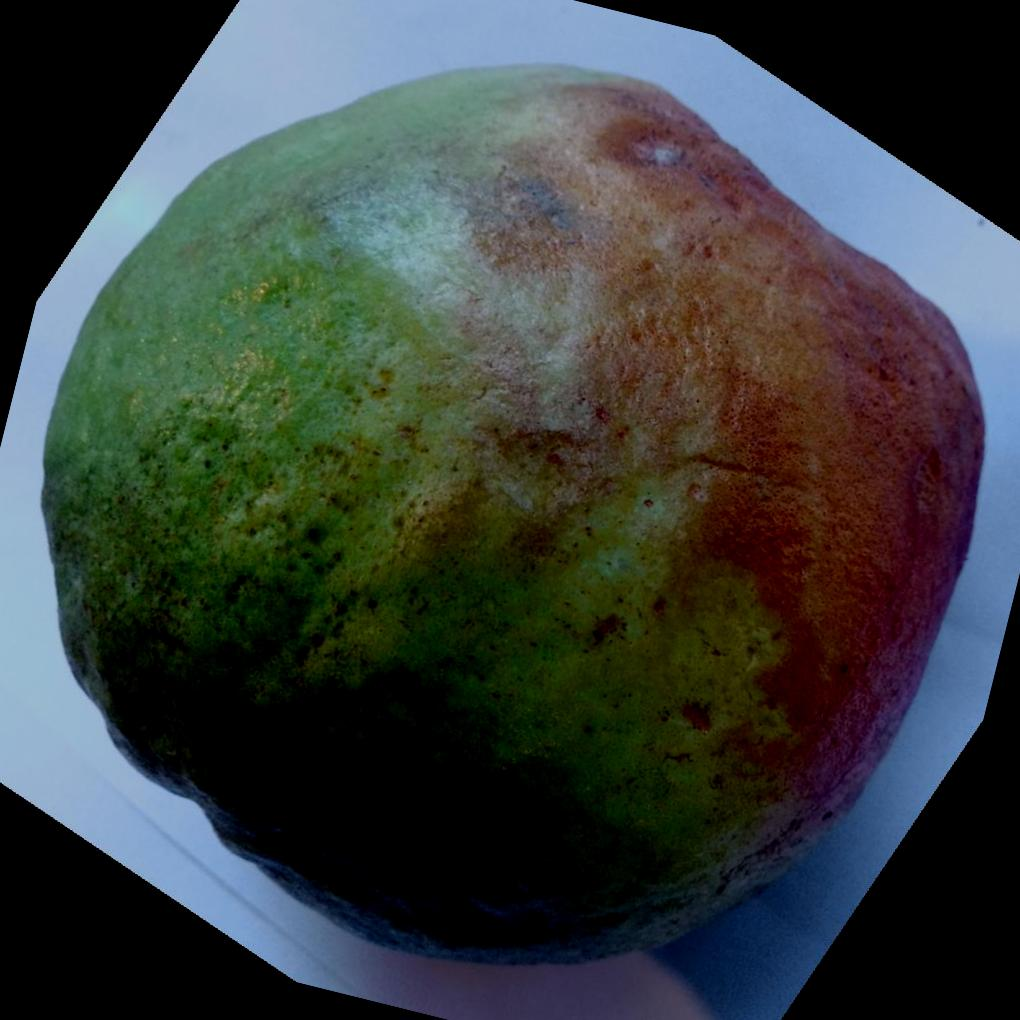FreshOrange: (38, 65, 987, 972)
